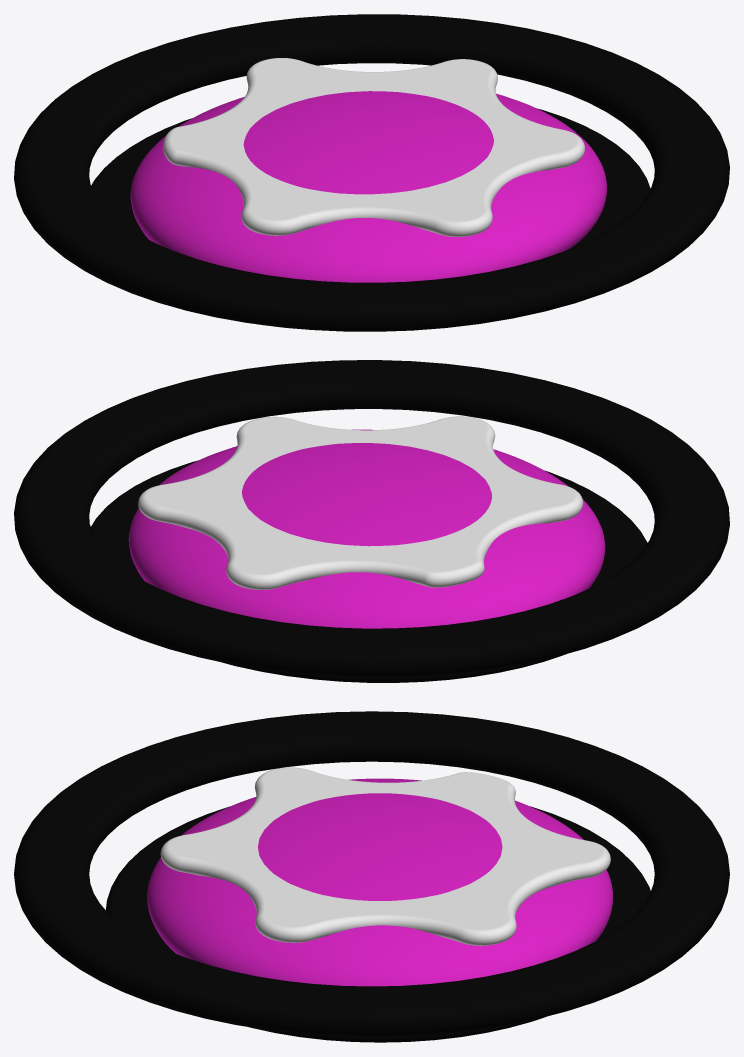
File: receptorPINK.glb
The picture shows the model from 3 angles, top to bottom: view 1: azimuth 30°, elevation 25°; view 2: azimuth 150°, elevation 25°; view 3: azimuth 270°, elevation 25°; orthographic projection.
Visible parts, largest first — view 1: Ellipse 4.001, Sphere 3, Star 3, Ellipse 4; view 2: Ellipse 4.001, Sphere 3, Star 3, Ellipse 4; view 3: Ellipse 4.001, Sphere 3, Star 3, Ellipse 4.
Part boxes in pixels (left/top/right/bottom): Ellipse 4.001: left=14, top=14, right=729, bottom=331; Sphere 3: left=130, top=91, right=606, bottom=282; Star 3: left=163, top=58, right=584, bottom=236; Ellipse 4: left=91, top=108, right=650, bottom=329; Ellipse 4.001: left=14, top=360, right=729, bottom=677; Sphere 3: left=128, top=429, right=605, bottom=628; Star 3: left=138, top=416, right=583, bottom=589; Ellipse 4: left=91, top=460, right=647, bottom=682; Ellipse 4.001: left=14, top=711, right=729, bottom=1036; Sphere 3: left=147, top=778, right=612, bottom=986; Star 3: left=160, top=767, right=610, bottom=945; Ellipse 4: left=106, top=806, right=650, bottom=1042.
Bounding box in the file's own units: 4.3 × 0.766 × 4.23.
